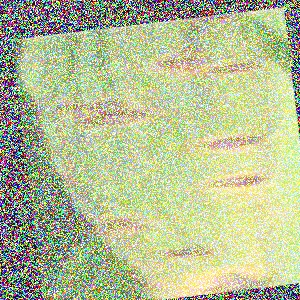Bacterial_Leaf_Blight: (194, 167, 283, 196), (76, 105, 156, 133), (191, 129, 271, 156), (148, 240, 222, 266), (197, 276, 279, 298), (203, 56, 276, 79), (150, 54, 211, 76), (40, 93, 87, 118), (82, 94, 130, 118), (88, 214, 138, 236), (146, 43, 206, 58), (128, 219, 162, 235), (104, 257, 129, 271), (193, 17, 240, 24)
